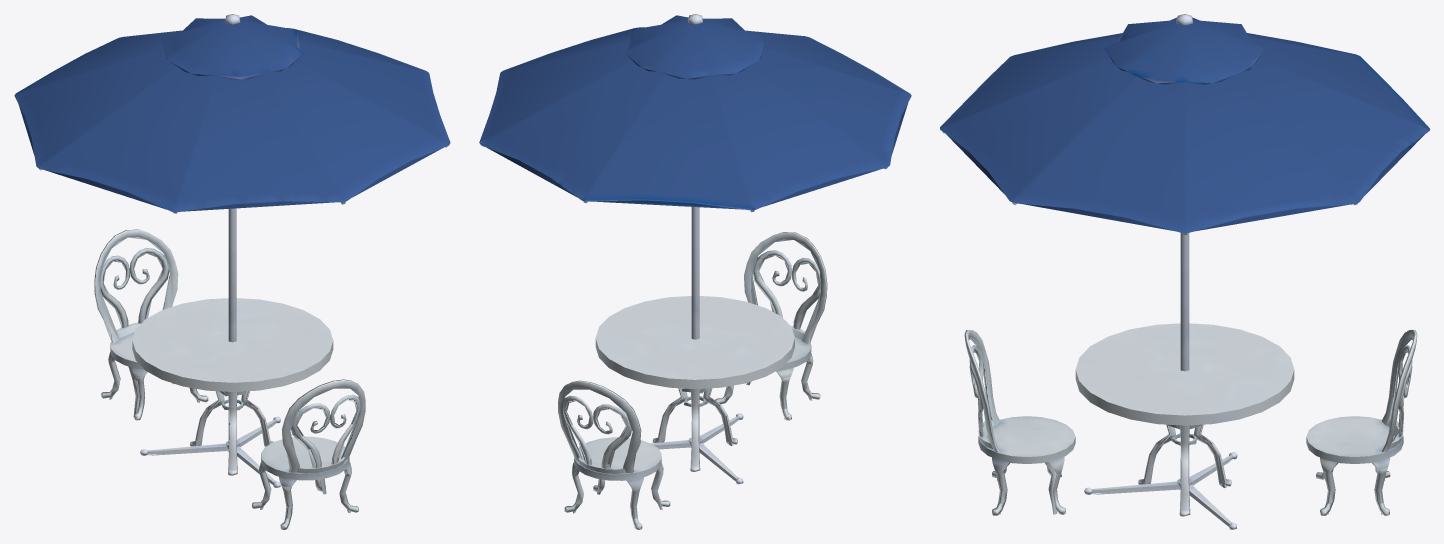
File: objects_un_t01house02_table01.gltf
The picture shows the model from 3 angles, left to right: view 1: azimuth 30°, elevation 25°; view 2: azimuth 150°, elevation 25°; view 3: azimuth 270°, elevation 25°; orthographic projection. The views are drawn at different scales.
Parts seen in each view (by area): view 1: um_objects_un_t01house02_table01_model_lod0Shape:objects_un_, um_objects_un_t01house02_table01_model_lod2Shape:objects_un_, um_objects_un_t01house02_table01_model_lod1Shape:objects_un_; view 2: um_objects_un_t01house02_table01_model_lod0Shape:objects_un_, um_objects_un_t01house02_table01_model_lod2Shape:objects_un_, um_objects_un_t01house02_table01_model_lod1Shape:objects_un_; view 3: um_objects_un_t01house02_table01_model_lod0Shape:objects_un_, um_objects_un_t01house02_table01_model_lod2Shape:objects_un_, um_objects_un_t01house02_table01_model_lod1Shape:objects_un_.
Part boxes in pixels (x1,y1,x2,y2): um_objects_un_t01house02_table01_model_lod0Shape:objects_un_: [14, 14, 450, 528]; um_objects_un_t01house02_table01_model_lod2Shape:objects_un_: [18, 15, 440, 528]; um_objects_un_t01house02_table01_model_lod1Shape:objects_un_: [40, 169, 361, 529]; um_objects_un_t01house02_table01_model_lod0Shape:objects_un_: [479, 14, 911, 529]; um_objects_un_t01house02_table01_model_lod2Shape:objects_un_: [487, 15, 907, 528]; um_objects_un_t01house02_table01_model_lod1Shape:objects_un_: [562, 168, 886, 529]; um_objects_un_t01house02_table01_model_lod0Shape:objects_un_: [940, 14, 1429, 529]; um_objects_un_t01house02_table01_model_lod2Shape:objects_un_: [946, 17, 1424, 526]; um_objects_un_t01house02_table01_model_lod1Shape:objects_un_: [969, 324, 1412, 515].
Size of the model in its own units: 2.64 by 2.87 by 2.64.
1 material, 1 textured.
